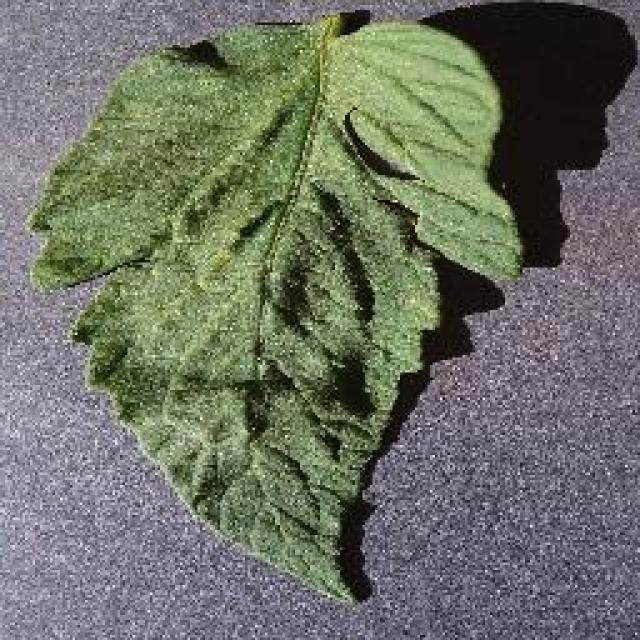Tomato___healthy: (22, 14, 524, 611)
